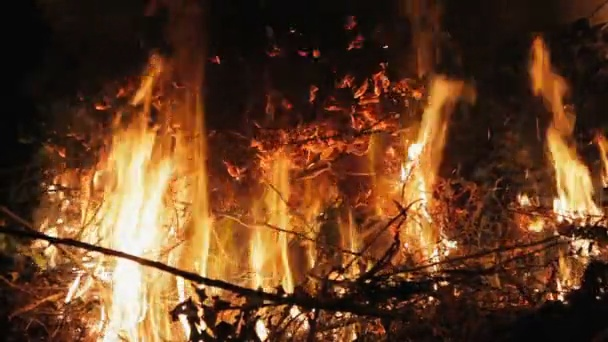fire: (28, 60, 212, 341), (395, 135, 456, 270), (546, 121, 608, 224), (235, 197, 294, 298), (252, 306, 309, 342), (567, 236, 603, 266), (553, 276, 564, 302), (515, 192, 530, 206)
